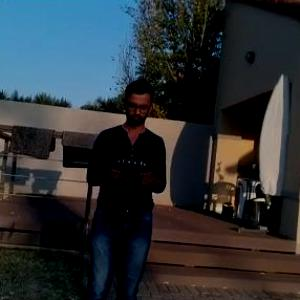follow: (80, 74, 172, 299)
